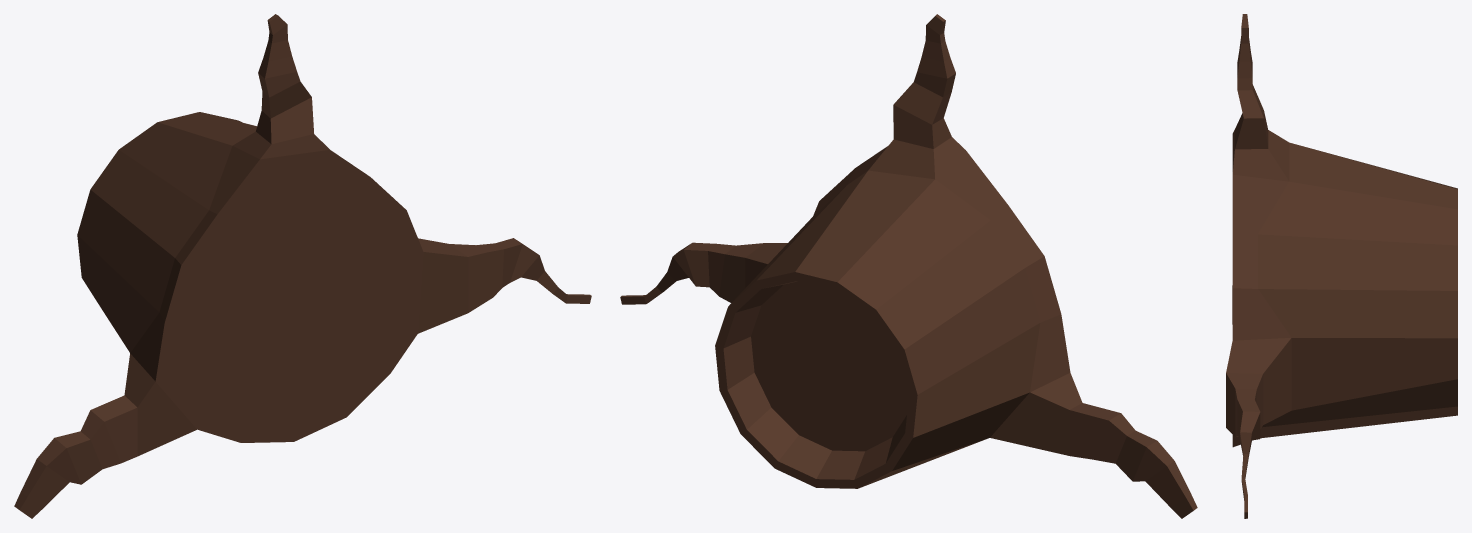
The model's file is TreeStump.fbx.
3 views of the same model, side by side, from view 1: azimuth 30°, elevation 25°; view 2: azimuth 150°, elevation 25°; view 3: azimuth 270°, elevation 25° (orthographic). The views are drawn at different scales.
Visible parts, largest first — view 1: Cylinder; view 2: Cylinder; view 3: Cylinder.
Boxes of the visible parts, box(x1,y1,x2,y2) form: Cylinder: box(14, 14, 591, 518); Cylinder: box(620, 14, 1197, 518); Cylinder: box(1226, 14, 1457, 518).
Size of the model in its own units: 5.64 by 4.16 by 2.02.
